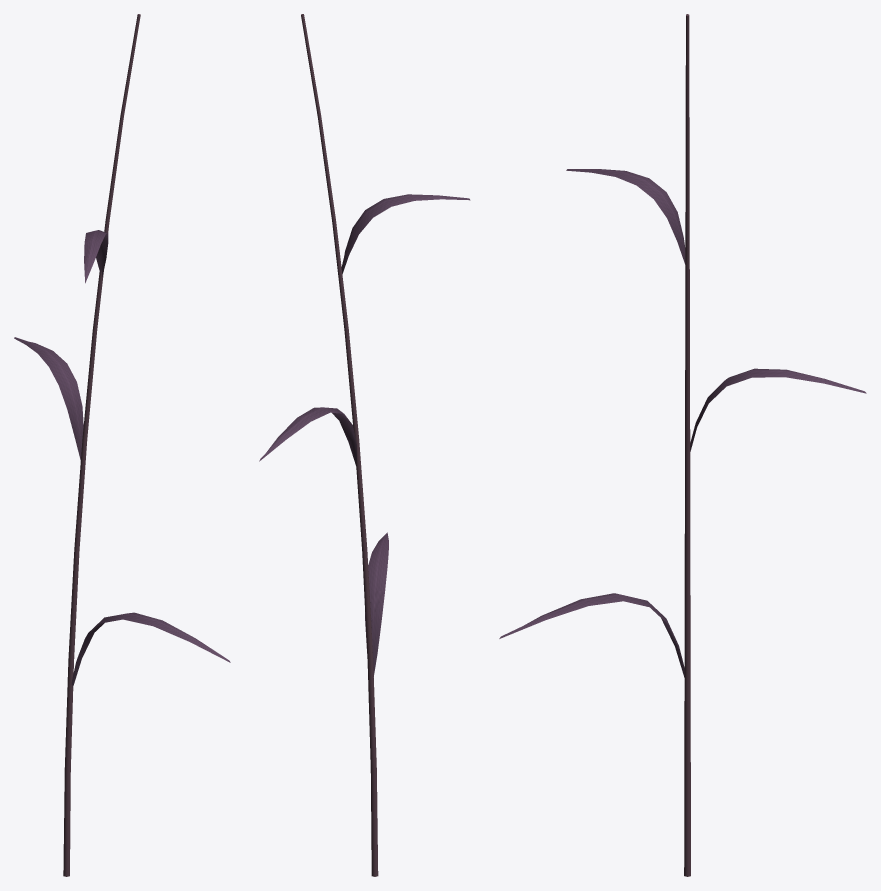
Rendered from single_stem_08.glb.
The picture shows the model from 3 angles, left to right: view 1: azimuth 30°, elevation 25°; view 2: azimuth 150°, elevation 25°; view 3: azimuth 270°, elevation 25°; orthographic projection. The views are drawn at different scales.
Visible parts, largest first — view 1: export; view 2: export; view 3: export.
Part boxes in pixels (x1,y1,x2,y2): export: (14, 14, 230, 876); export: (259, 14, 470, 876); export: (499, 14, 866, 876).
Bounding box in the file's own units: 0.142 × 1 × 0.3714.
2 materials, 2 textured.
